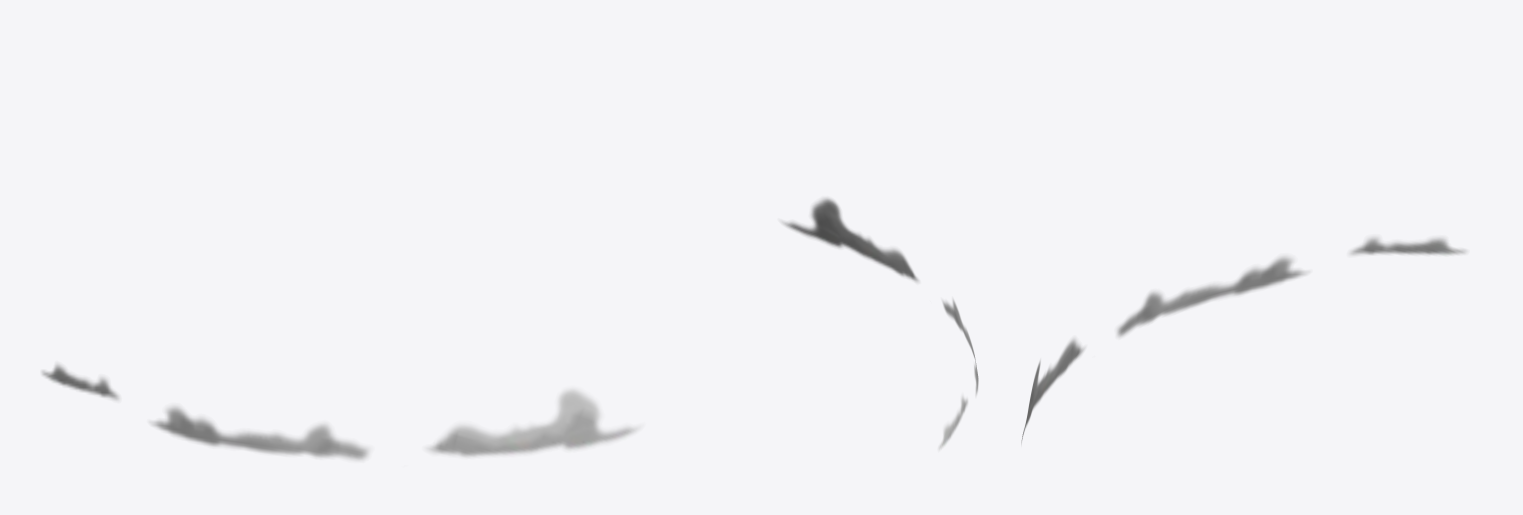
3 views of the same model, side by side, from view 1: azimuth 30°, elevation 25°; view 2: azimuth 150°, elevation 25°; view 3: azimuth 270°, elevation 25° (orthographic). The views are drawn at different scales.
Visible parts, largest first — view 1: body0_model0_lod0_mesh0; view 2: body0_model0_lod0_mesh0; view 3: body0_model0_lod0_mesh0.
Part boxes in pixels (x1,y1,x2,y2): body0_model0_lod0_mesh0: [42, 364, 640, 460]; body0_model0_lod0_mesh0: [782, 198, 978, 450]; body0_model0_lod0_mesh0: [1021, 236, 1466, 443].
Bounding box in the file's own units: 2047 × 1657 × 2047.
1 material, 1 textured.
